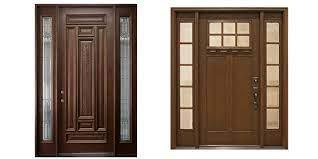door: (57, 4, 117, 156), (199, 11, 262, 149)
